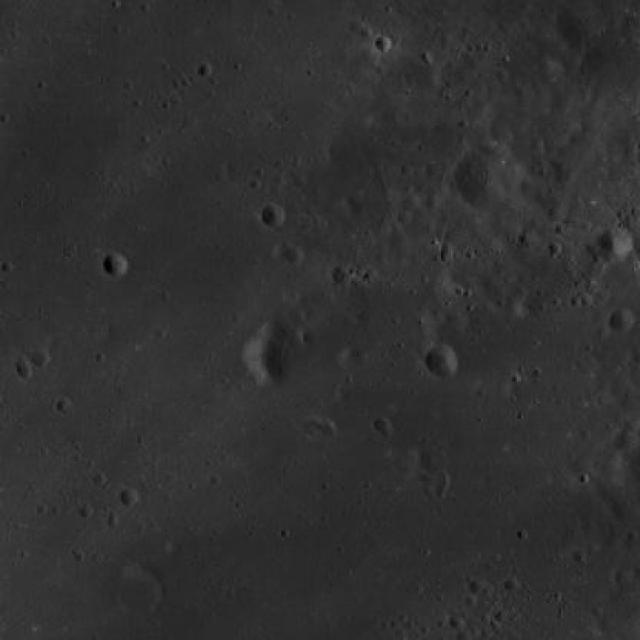crater: (452, 144, 520, 212), (116, 568, 159, 610), (592, 224, 631, 262), (424, 345, 458, 378), (610, 308, 636, 334), (105, 253, 130, 278), (264, 207, 288, 230), (614, 430, 637, 452), (516, 226, 538, 249), (332, 262, 352, 282), (546, 200, 566, 220), (286, 248, 306, 267), (400, 192, 420, 211), (122, 488, 141, 507), (16, 360, 36, 378), (378, 40, 396, 57), (34, 350, 51, 367), (378, 420, 394, 438), (624, 417, 640, 434), (468, 579, 483, 595)
